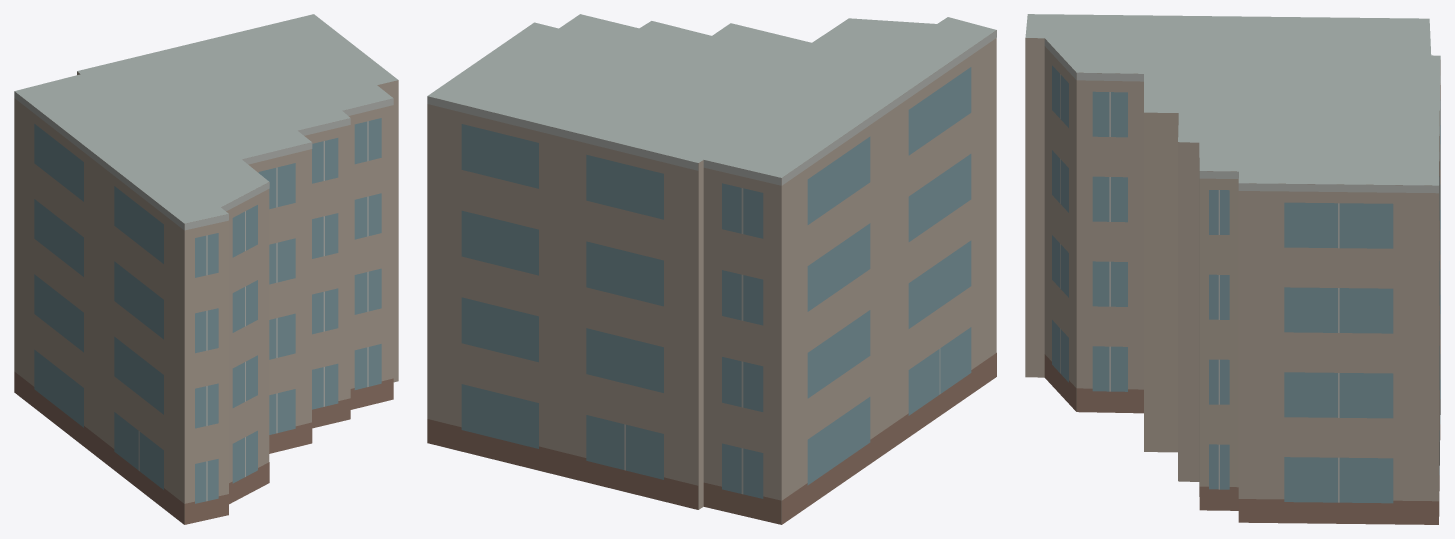
File: survey-upis-32753891.glb
3 renders of one model, left to right at view 1: azimuth 30°, elevation 25°; view 2: azimuth 150°, elevation 25°; view 3: azimuth 270°, elevation 25°, orthographic. The views are drawn at different scales.
Visible parts, largest first — view 1: survey-upis-32753891.tmp; view 2: survey-upis-32753891.tmp; view 3: survey-upis-32753891.tmp.
Part boxes in pixels (<box>): survey-upis-32753891.tmp: <box>14,14,398,524</box>; survey-upis-32753891.tmp: <box>427,14,996,524</box>; survey-upis-32753891.tmp: <box>1025,14,1440,524</box>.
Bounding box in the file's own units: 11.72 × 10.8 × 11.99.
